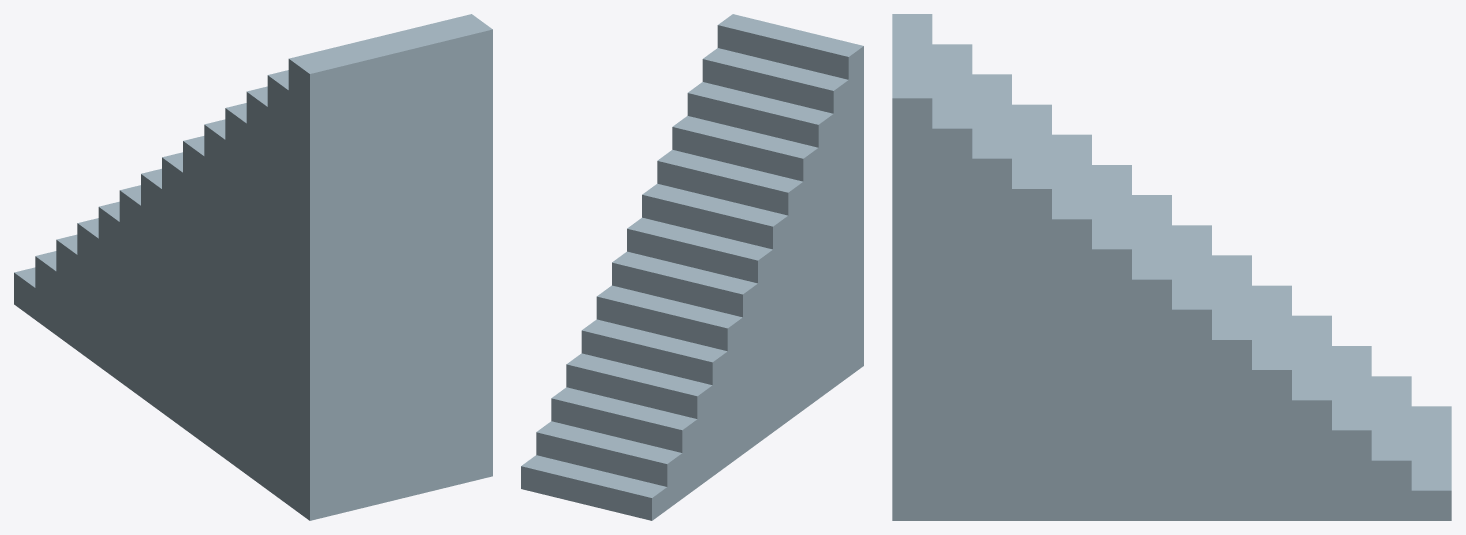
The model's file is bo_shrine_stairs.fbx.
The picture shows the model from 3 angles, left to right: view 1: azimuth 30°, elevation 25°; view 2: azimuth 150°, elevation 25°; view 3: azimuth 270°, elevation 25°; orthographic projection. The views are drawn at different scales.
Parts seen in each view (by area): view 1: bo_shrine_stairs; view 2: bo_shrine_stairs; view 3: bo_shrine_stairs.
Boxes of the visible parts, bbox=[...] form: bo_shrine_stairs: bbox=[14, 14, 492, 520]; bo_shrine_stairs: bbox=[521, 14, 863, 520]; bo_shrine_stairs: bbox=[892, 14, 1451, 520].
Bounding box in the file's own units: 3 × 7 × 8.4.
1 material, 1 textured.
